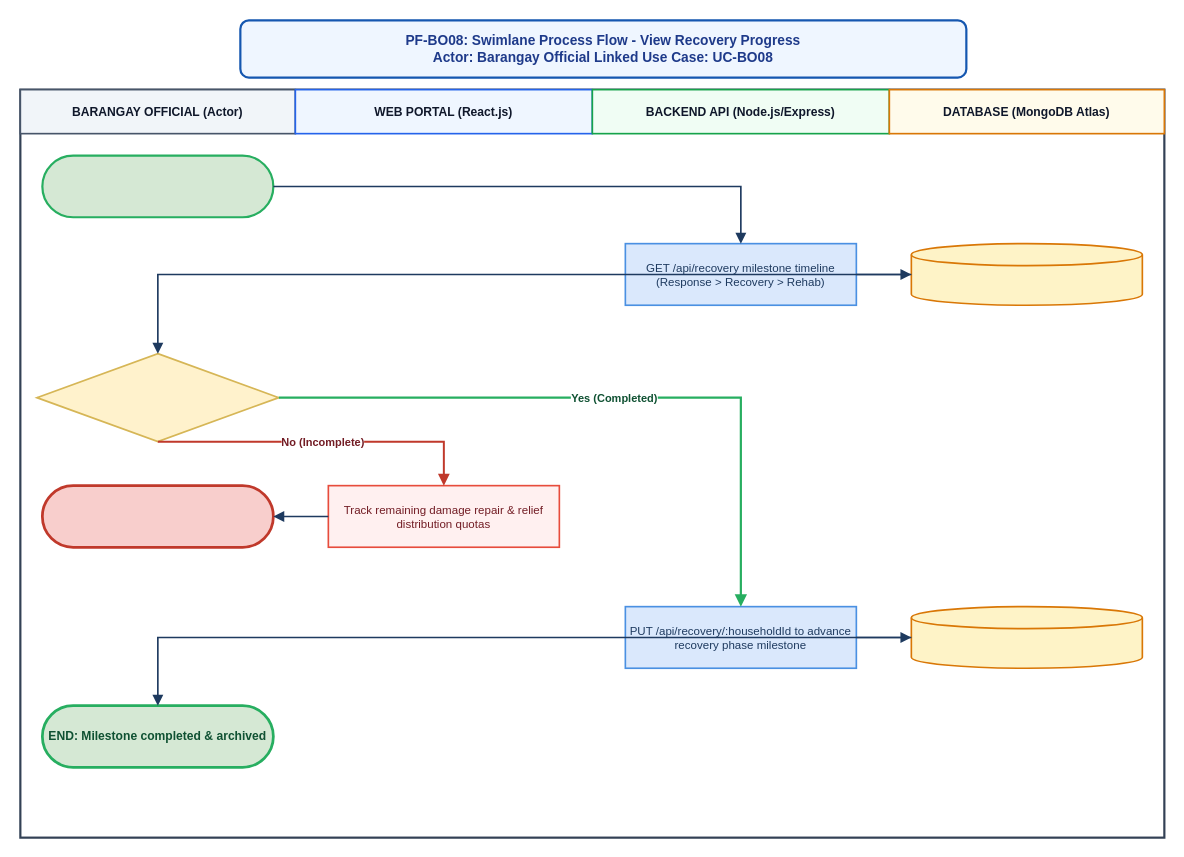
The diagram is 1184 pixels wide and 857 high, and some of its shapes have lost their labels. The centre of each missing label's shape, as x and y in pixels:
"END: Phase ongoing; monitoring metrics" goes at (157,516).
"MongoDB: Queries Recovery milestone records" goes at (1026,274).
"MongoDB: Saves milestone; Emits Socket.IO update to LGU Command Center" goes at (1026,637).
"Phase milestone targets fully completed?" goes at (157,397).
"START: Opens Recovery Progress" goes at (157,186).
